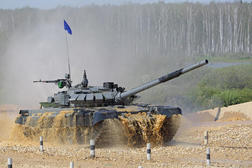t72: (16, 59, 213, 138)
